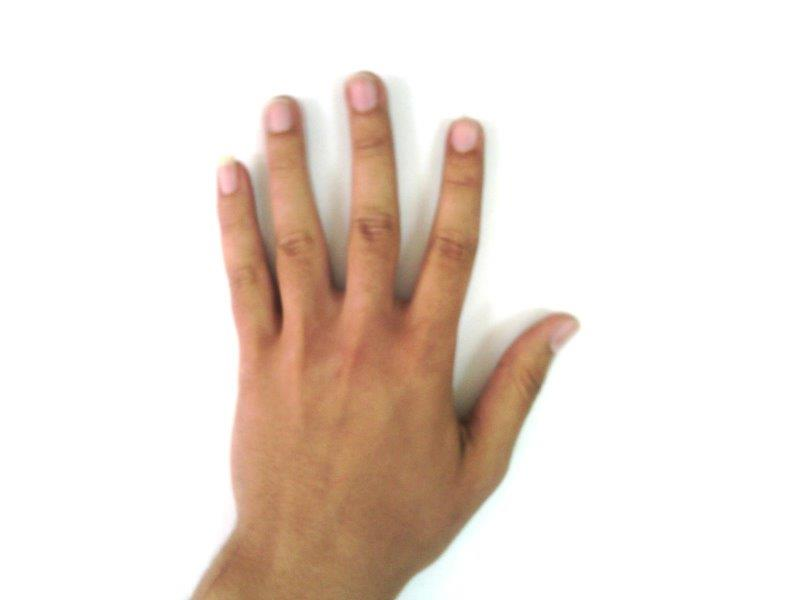hand: (216, 71, 584, 548)
